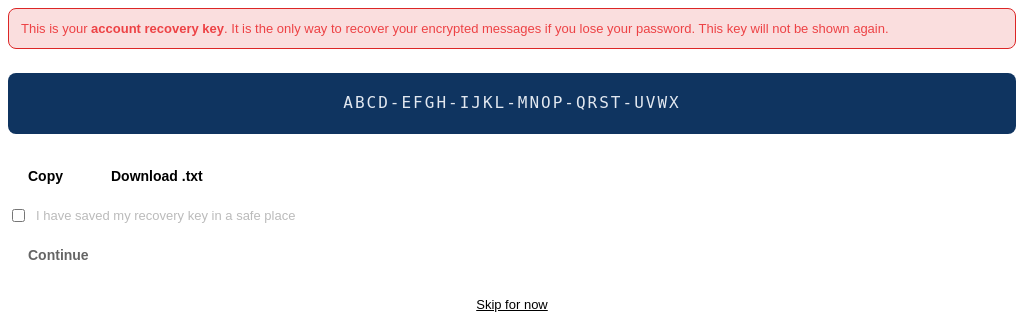
RecoveryKeyDisplay › enables Continue after checkbox is checked
Step 1. Click the checkbox → (18, 215), box left=12, top=209, right=25, bottom=222
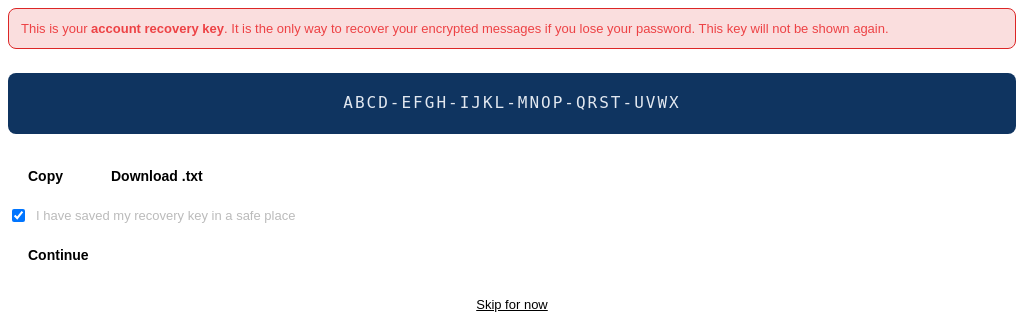
Expected: the button "Continue" is enabled, left=8, top=237, right=1016, bottom=273
